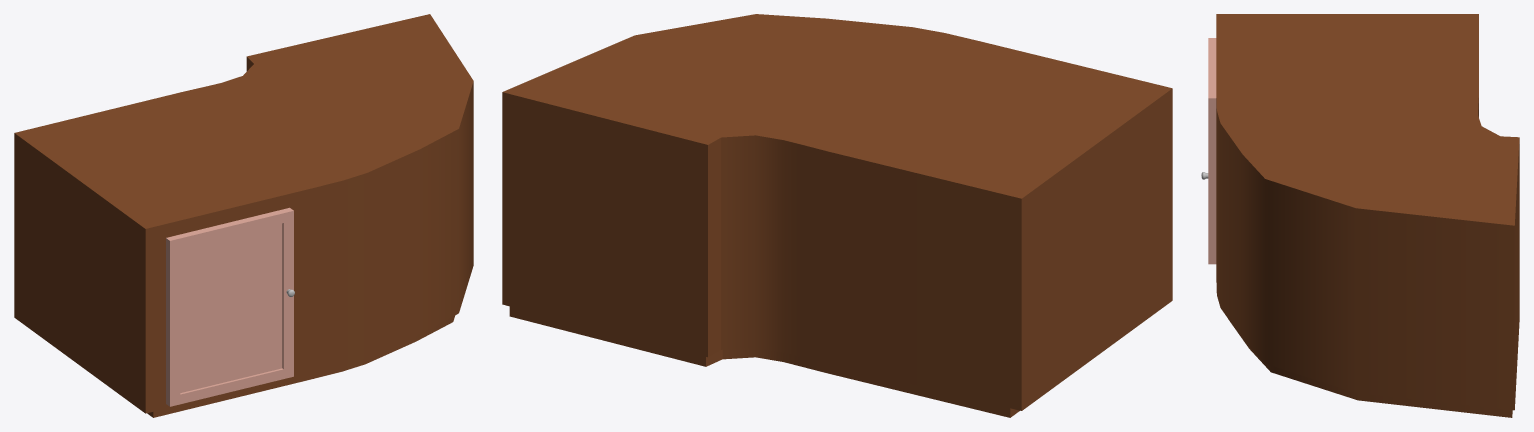
The model's file is SM_Comptoir05.fbx.
3 renders of one model, left to right at view 1: azimuth 30°, elevation 25°; view 2: azimuth 150°, elevation 25°; view 3: azimuth 270°, elevation 25°, orthographic. The views are drawn at different scales.
Visible parts, largest first — view 1: Cube.049, Cube.052; view 2: Cube.049; view 3: Cube.049, Cube.052.
Boxes of the visible parts, bbox=[...] form: Cube.049: bbox=[14, 14, 473, 417]; Cube.052: bbox=[166, 207, 293, 406]; Cube.049: bbox=[502, 14, 1172, 417]; Cube.049: bbox=[1216, 14, 1519, 417]; Cube.052: bbox=[1208, 38, 1216, 264].
Bounding box in the file's own units: 11642 × 4994 × 7390.
